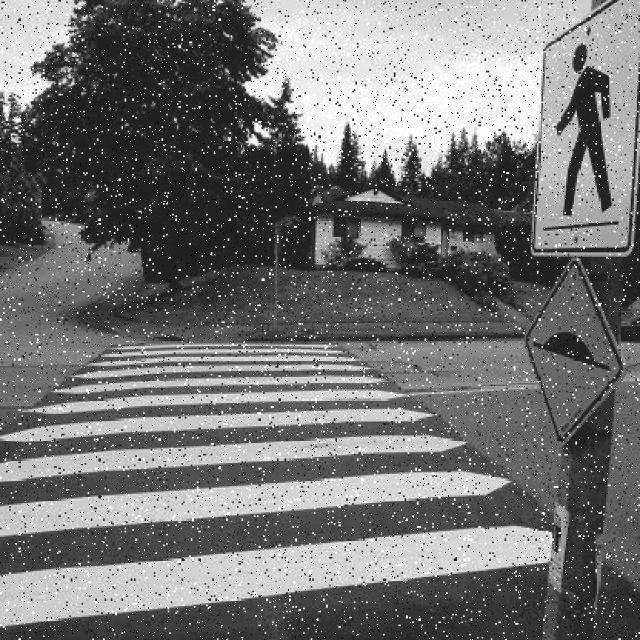crosswalk: (1, 345, 561, 625)
